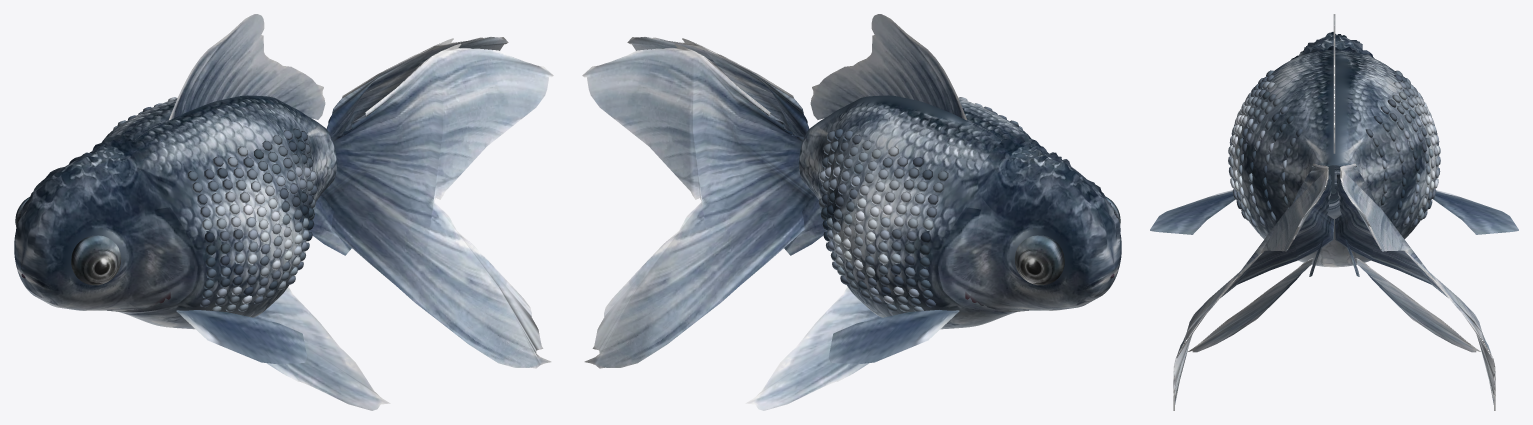
Rendered from horyu.glb.
3 views of the same model, side by side, from view 1: azimuth 30°, elevation 25°; view 2: azimuth 150°, elevation 25°; view 3: azimuth 270°, elevation 25° (orthographic). The views are drawn at different scales.
Parts seen in each view (by area): view 1: caudal_near, body, pearls, wen, dorsal, pelvic_near, pectoral_near, caudal_far, gill_near, eye_near, anal_near; view 2: caudal_far, body, pearls, wen, dorsal, pelvic_far, pectoral_far, caudal_near, gill_far, eye_far, anal_far; view 3: body, pearls, caudal_near, caudal_far, pelvic_near, pelvic_far, pectoral_far, pectoral_near, wen, dorsal.
Part boxes in pixels (x1=…): caudal_near: x1=320, y1=43, x2=553, y2=368; body: x1=14, y1=95, x2=336, y2=329; pearls: x1=113, y1=97, x2=317, y2=311; wen: x1=15, y1=135, x2=157, y2=261; dorsal: x1=169, y1=14, x2=325, y2=120; pelvic_near: x1=254, y1=287, x2=390, y2=410; pectoral_near: x1=176, y1=310, x2=306, y2=363; caudal_far: x1=326, y1=37, x2=508, y2=137; gill_near: x1=107, y1=207, x2=197, y2=311; eye_near: x1=71, y1=235, x2=121, y2=285; anal_near: x1=308, y1=196, x2=351, y2=255; caudal_far: x1=582, y1=43, x2=815, y2=368; body: x1=799, y1=95, x2=1121, y2=329; pearls: x1=818, y1=97, x2=1022, y2=311; wen: x1=978, y1=133, x2=1120, y2=261; dorsal: x1=810, y1=14, x2=966, y2=120; pelvic_far: x1=745, y1=287, x2=881, y2=410; pectoral_far: x1=829, y1=310, x2=959, y2=363; caudal_near: x1=627, y1=37, x2=809, y2=137; gill_far: x1=938, y1=207, x2=1028, y2=311; eye_far: x1=1014, y1=235, x2=1064, y2=285; anal_far: x1=784, y1=196, x2=827, y2=255; body: x1=1231, y1=50, x2=1437, y2=267; pearls: x1=1228, y1=70, x2=1440, y2=226; caudal_near: x1=1173, y1=163, x2=1333, y2=410; caudal_far: x1=1335, y1=163, x2=1495, y2=410; pelvic_near: x1=1188, y1=258, x2=1313, y2=352; pelvic_far: x1=1355, y1=258, x2=1480, y2=352; pectoral_far: x1=1433, y1=190, x2=1518, y2=234; pectoral_near: x1=1150, y1=190, x2=1235, y2=234; wen: x1=1290, y1=32, x2=1374, y2=60; dorsal: x1=1333, y1=14, x2=1335, y2=153.
Bounding box in the file's own units: 0.15 × 0.0986 × 0.1036.
Materials: 1 (1 with a texture image).
